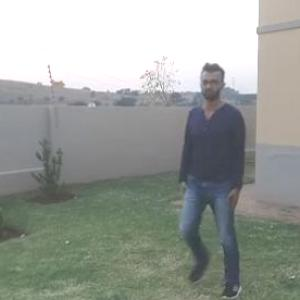follow: (185, 67, 250, 260)
